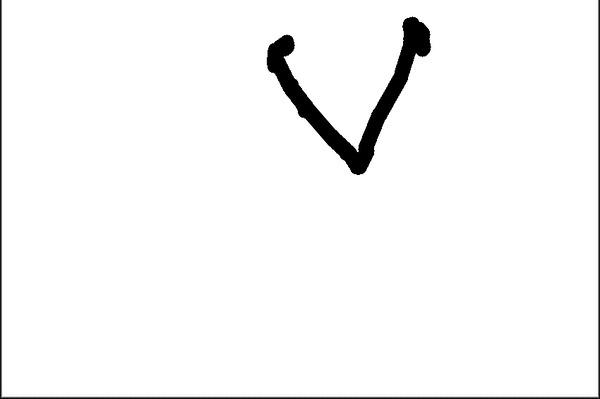V: (252, 11, 436, 174)
